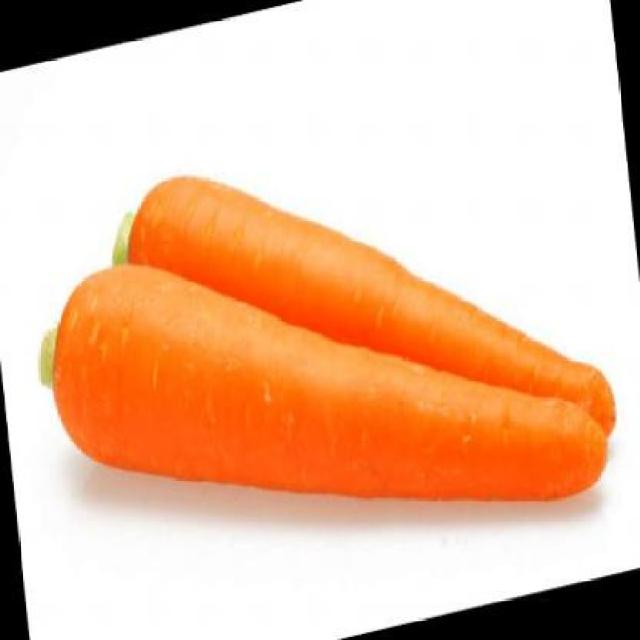carrot: (40, 155, 611, 616), (119, 80, 618, 545)
